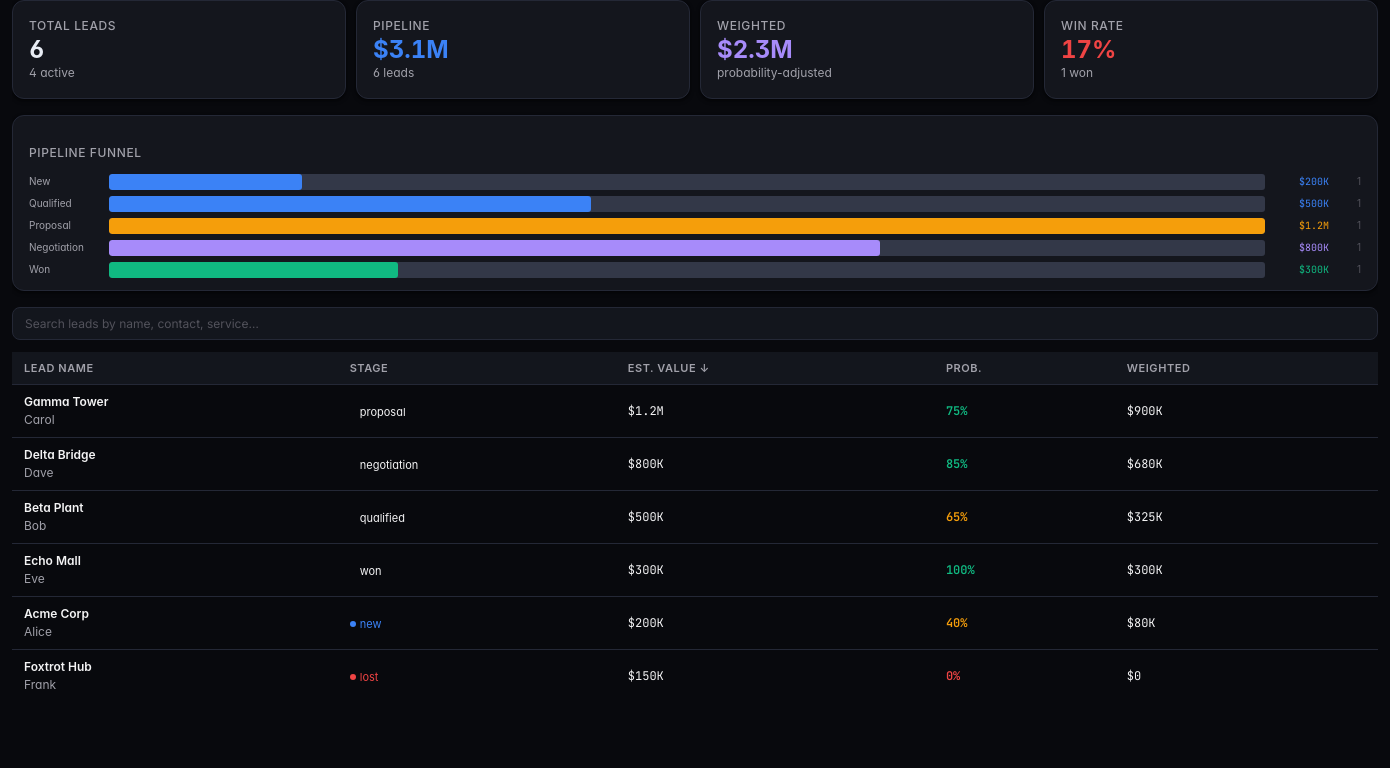
Test: CRMLeads — search › filters leads by contact
The image size is (1390, 768).
Step 1. Type "carol" into the search field → (695, 324), box top-left (12, 307), bottom-right (1378, 340)
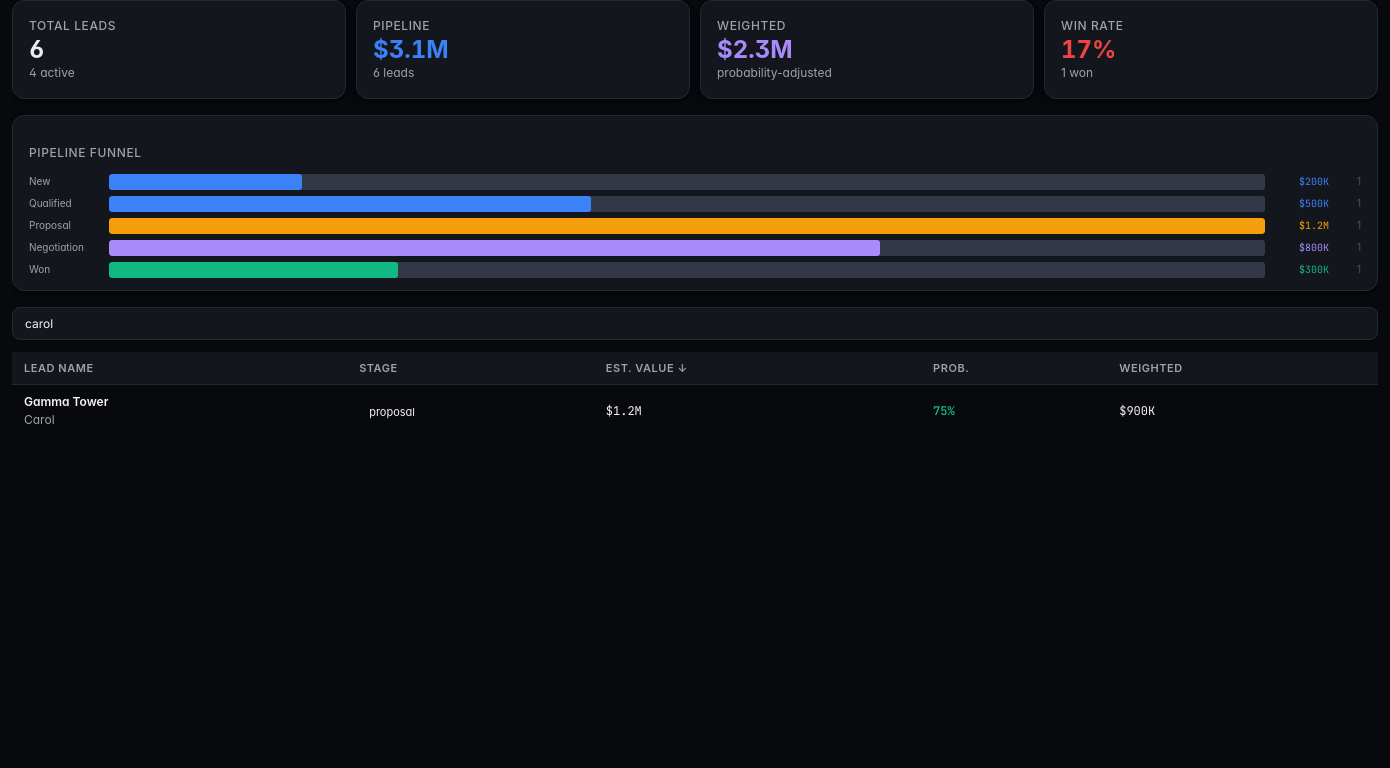
Expected: the text "Gamma Tower" is shown, top-left (24, 394), bottom-right (108, 410)
Result: the text "Acme Corp" is gone
